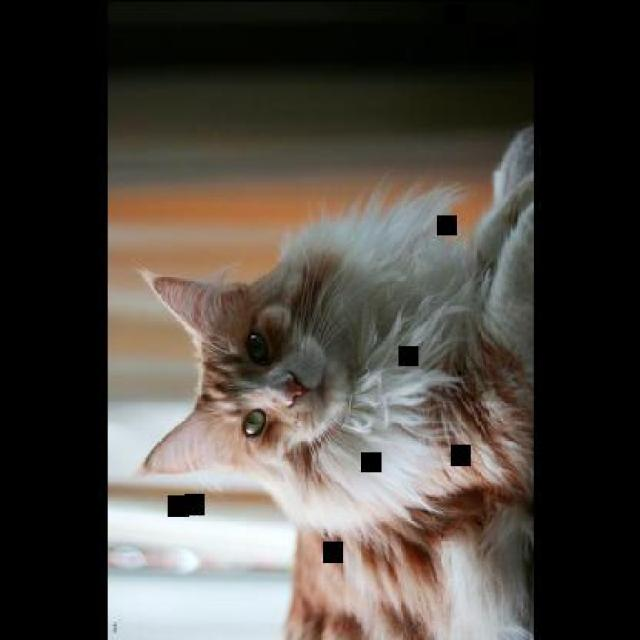unauthorized: (134, 124, 535, 638)
